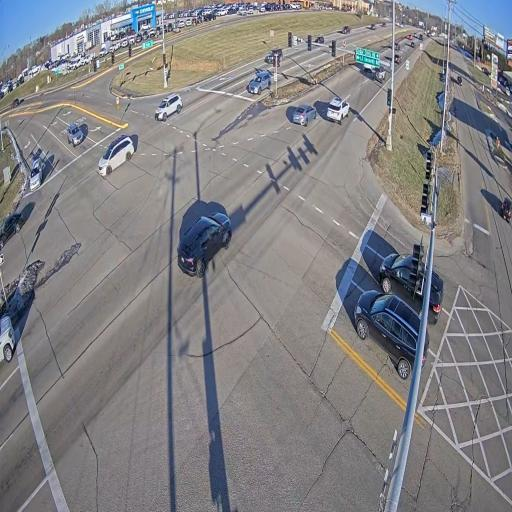sedan: (0, 212, 25, 250), (291, 105, 317, 126), (501, 197, 512, 223), (315, 36, 324, 44), (457, 76, 462, 87)
suv: (354, 290, 420, 380), (177, 212, 232, 278), (0, 316, 15, 362), (327, 97, 350, 124), (67, 123, 85, 147), (265, 48, 282, 63), (374, 67, 386, 83), (12, 98, 19, 108), (342, 26, 350, 34), (395, 55, 401, 64), (394, 41, 399, 51), (370, 24, 376, 29), (408, 34, 413, 40), (411, 43, 414, 47)
van: (378, 253, 424, 315), (98, 134, 135, 176), (155, 93, 183, 121), (429, 271, 443, 324), (247, 71, 272, 95), (30, 157, 42, 191)
